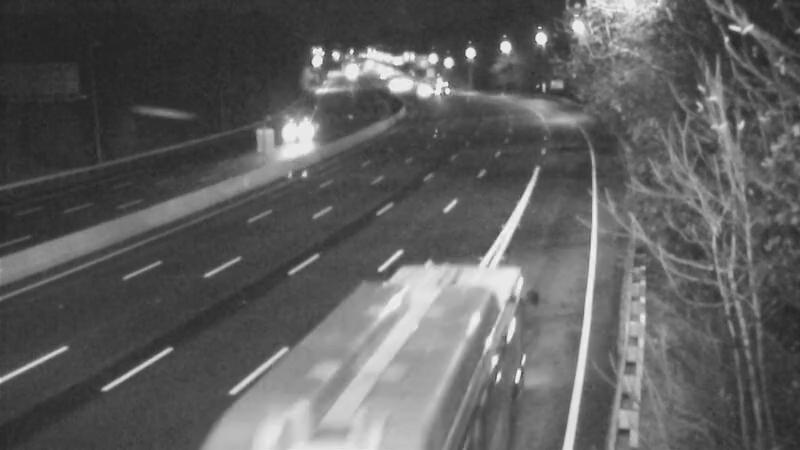vehicle: (322, 320, 432, 430), (371, 59, 421, 109), (413, 61, 463, 111), (391, 65, 441, 115), (276, 107, 326, 157)
